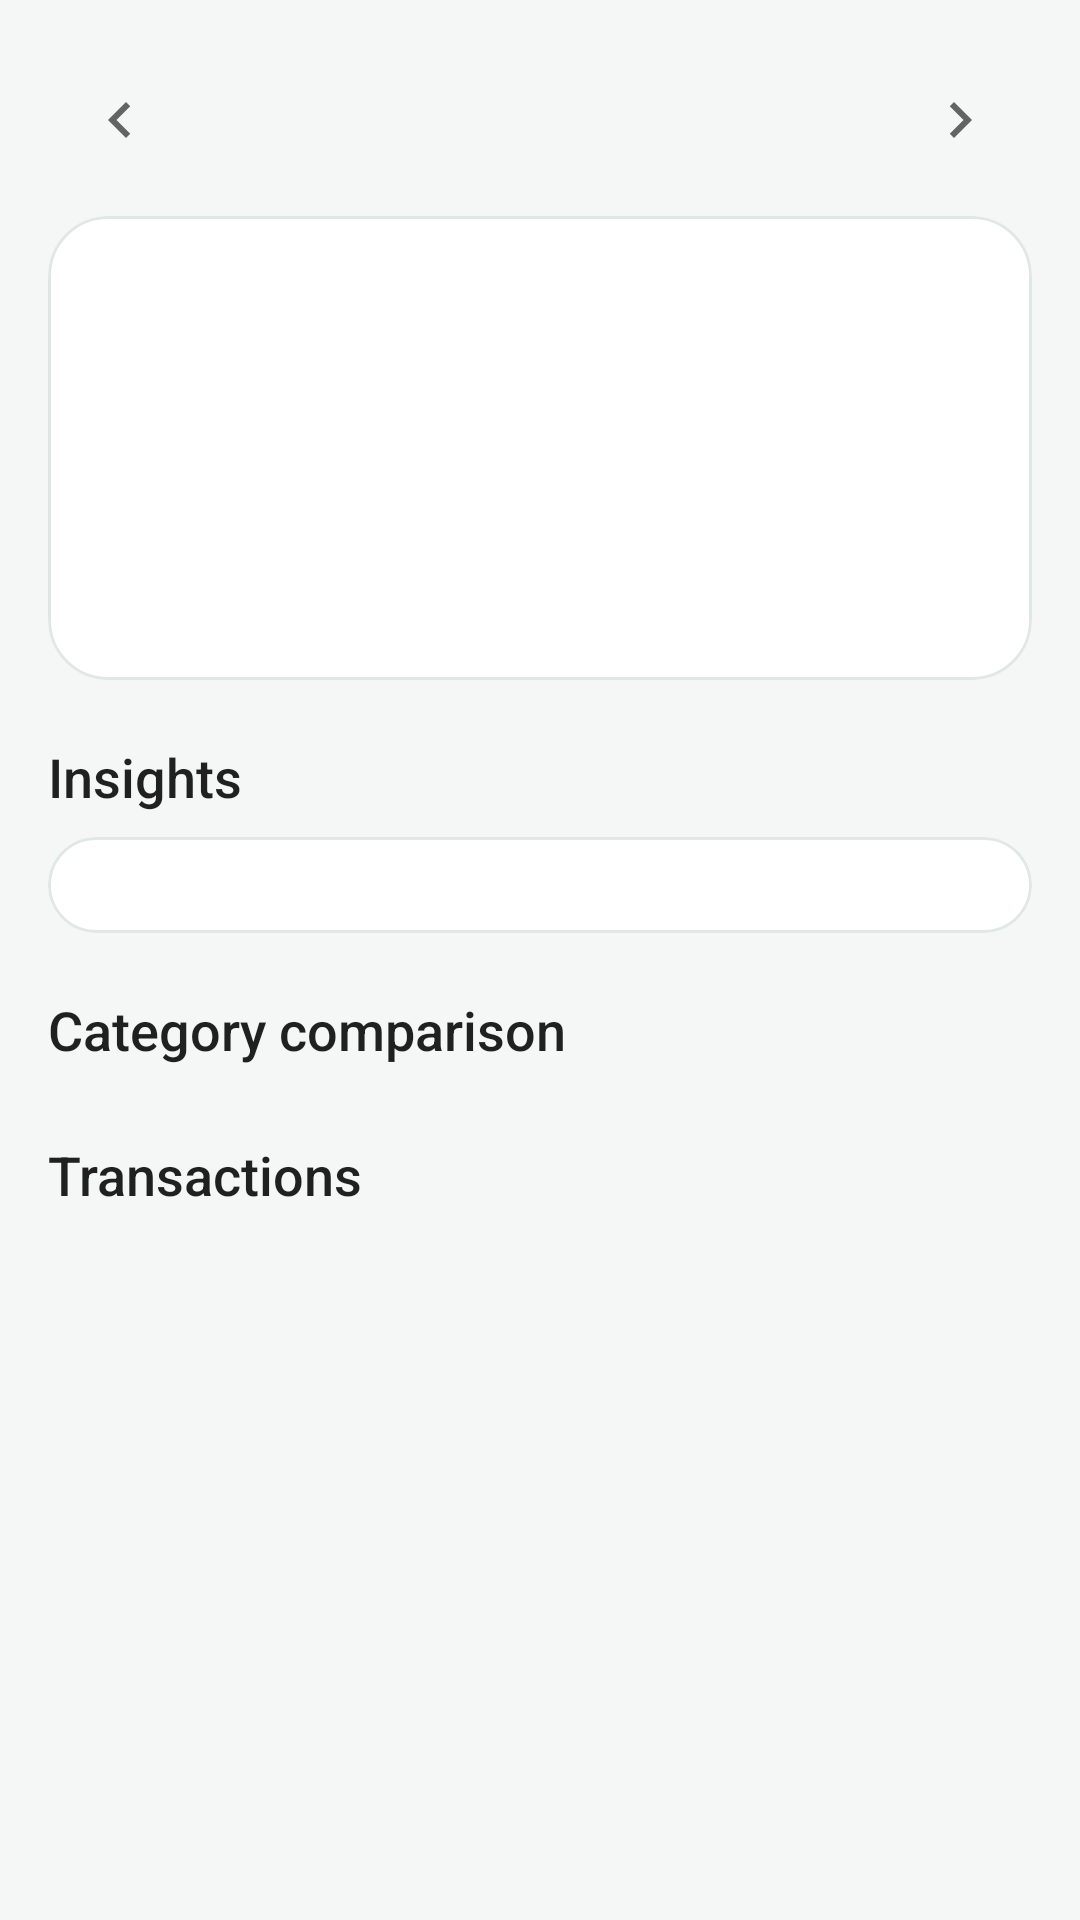

Named icons in this screenshot (1080×1920) and their centers, (x=x, y=y):
Next month: (x=961, y=120)
Previous month: (x=119, y=120)
